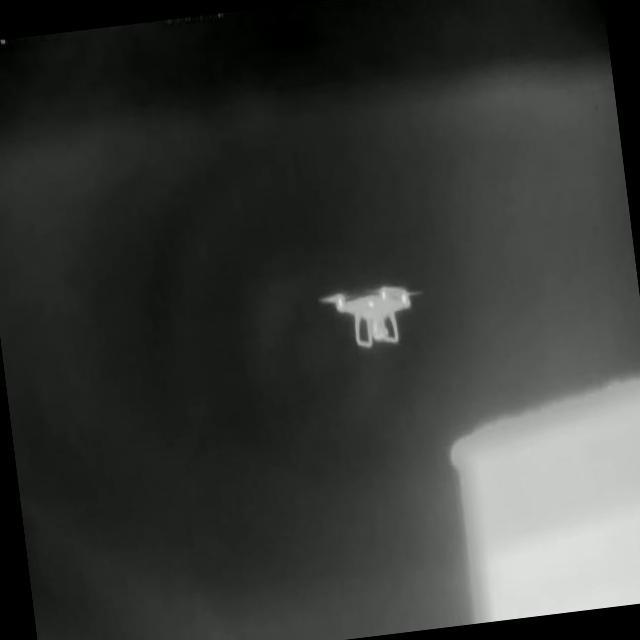DRONE: (314, 283, 435, 348)
